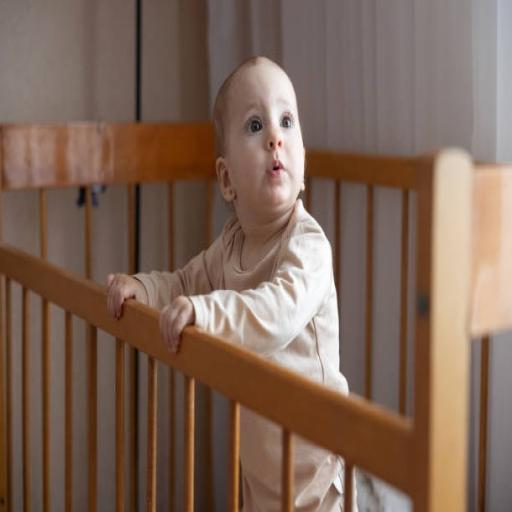baby: (108, 57, 347, 393)
crib: (0, 124, 511, 510)
